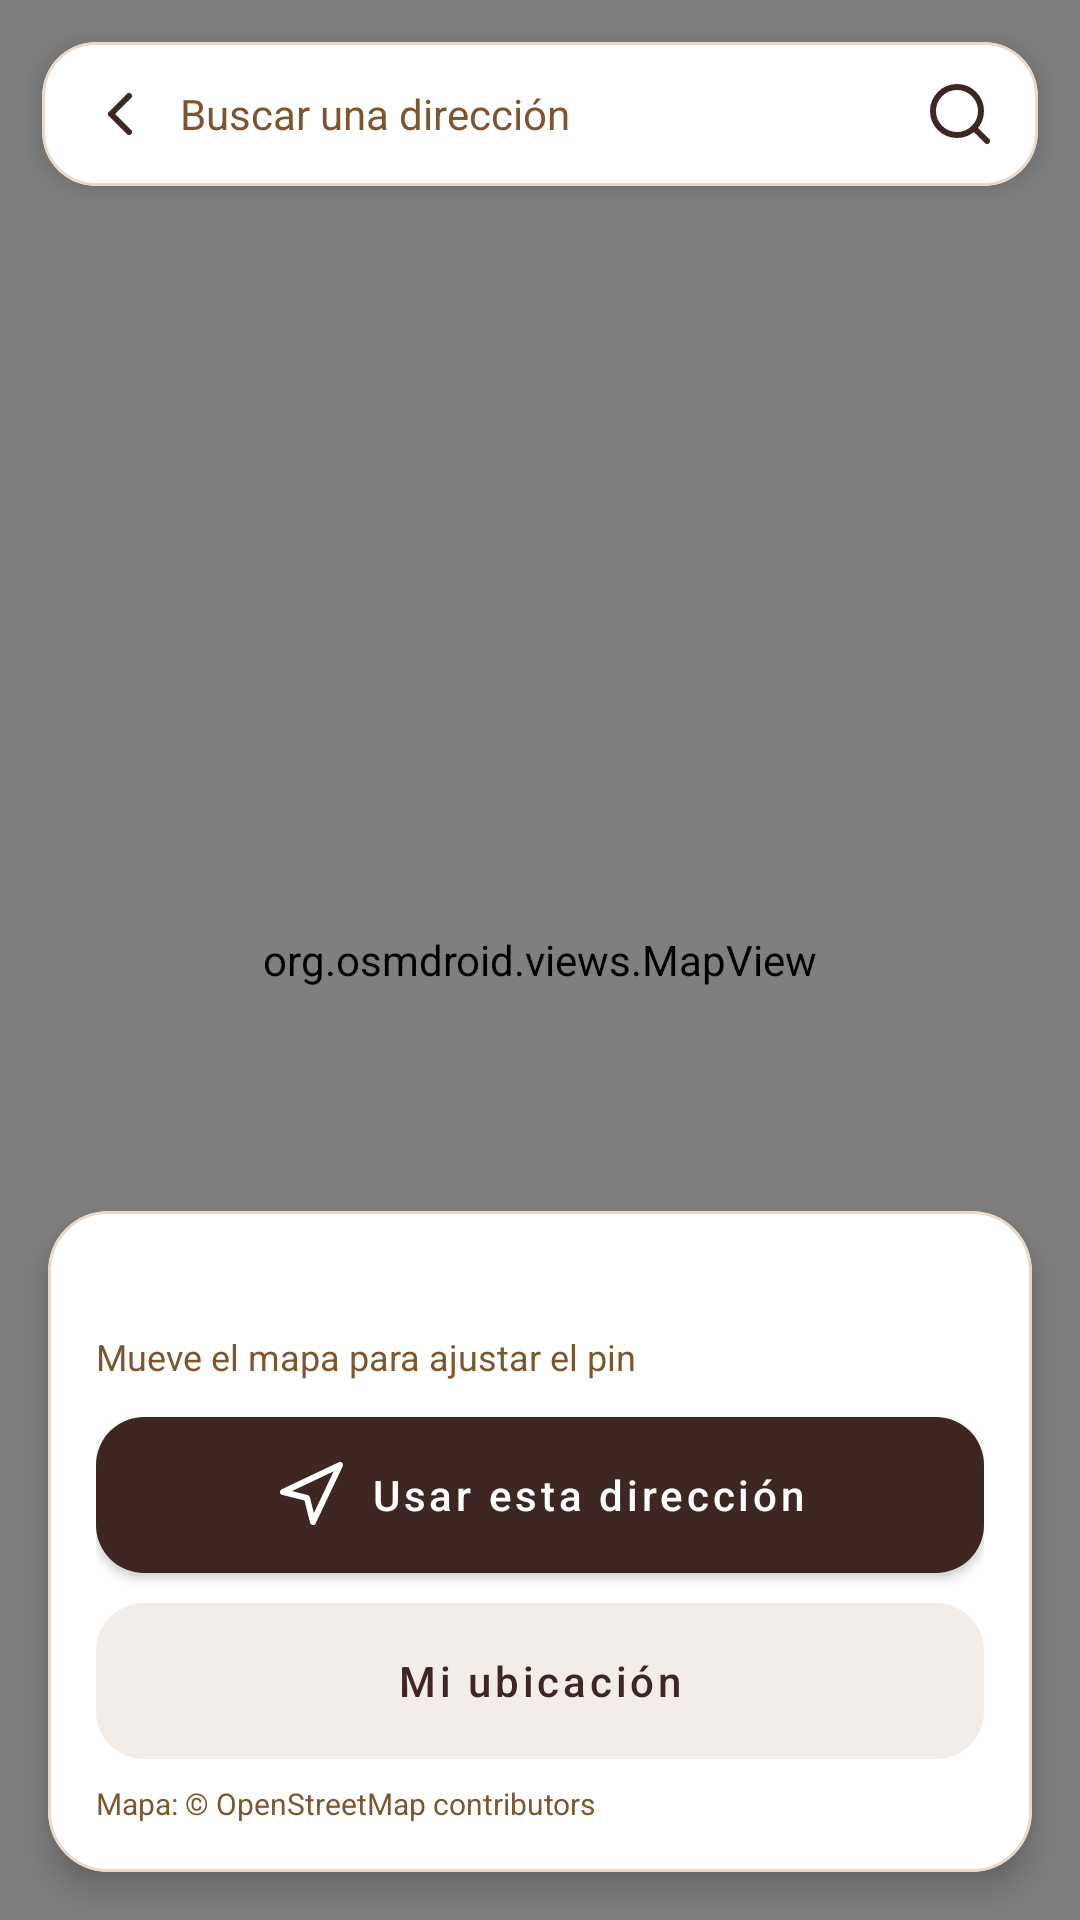

Locate icon controls on the screen. Image size 1080px×1920px, boxes as (x1, y1, x2, y2).
Volver a mis direcciones: (108, 93, 132, 135)
